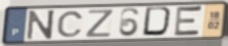6: (118, 7, 142, 38)
C: (56, 10, 85, 38)
D: (141, 6, 176, 38)
E: (173, 5, 205, 38)
N: (25, 8, 57, 41)
Z: (84, 9, 116, 39)
